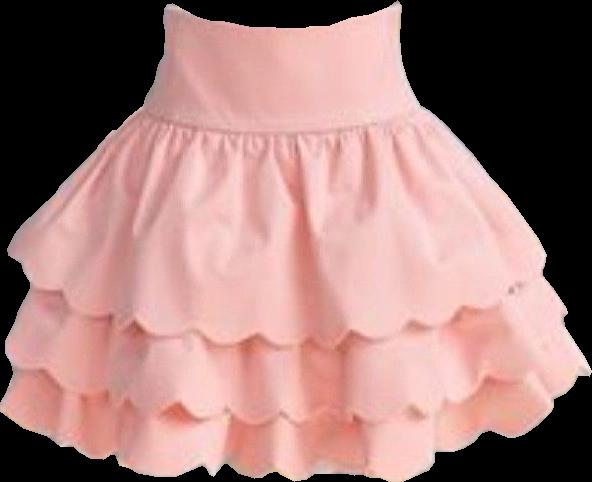Hemline: (0, 366, 591, 481), (2, 311, 570, 425), (4, 246, 549, 352)
Waistline: (137, 102, 424, 137), (166, 0, 401, 32)
